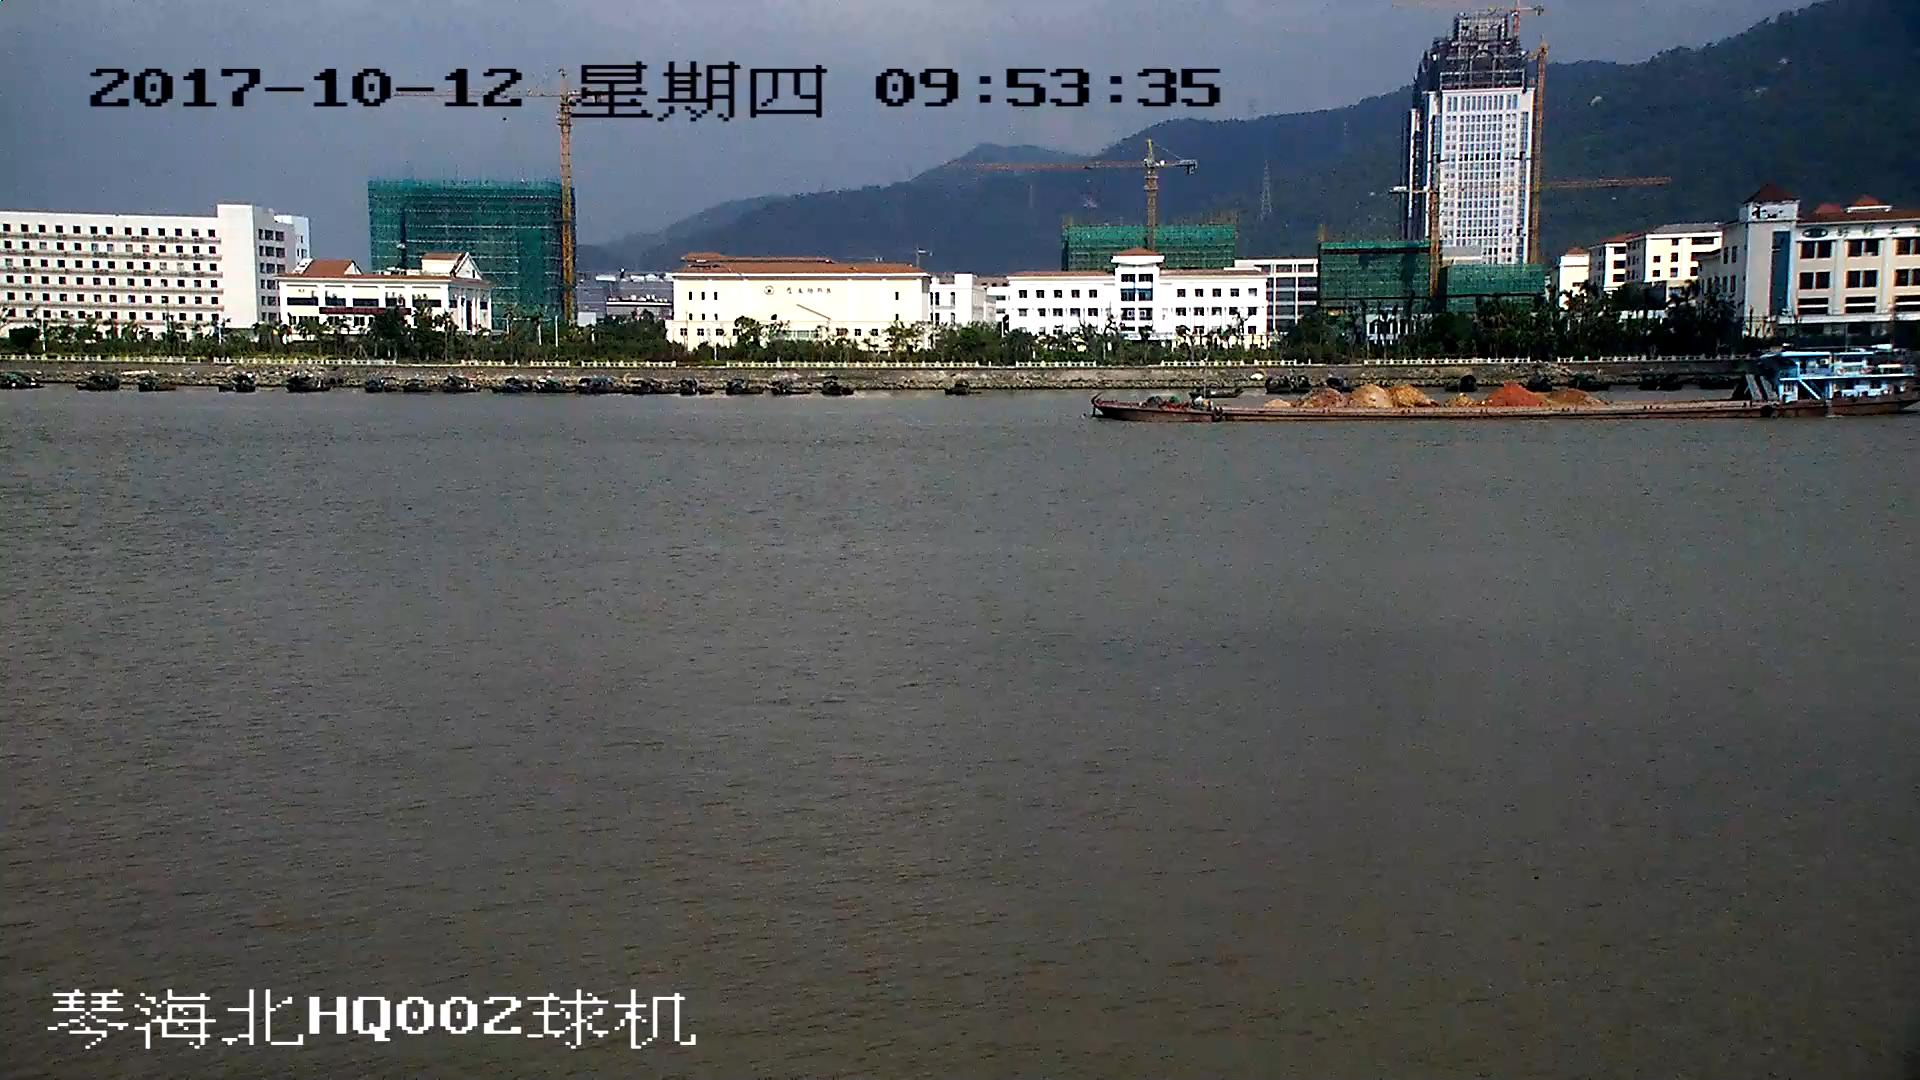ore carrier: (1089, 352, 1920, 422)
